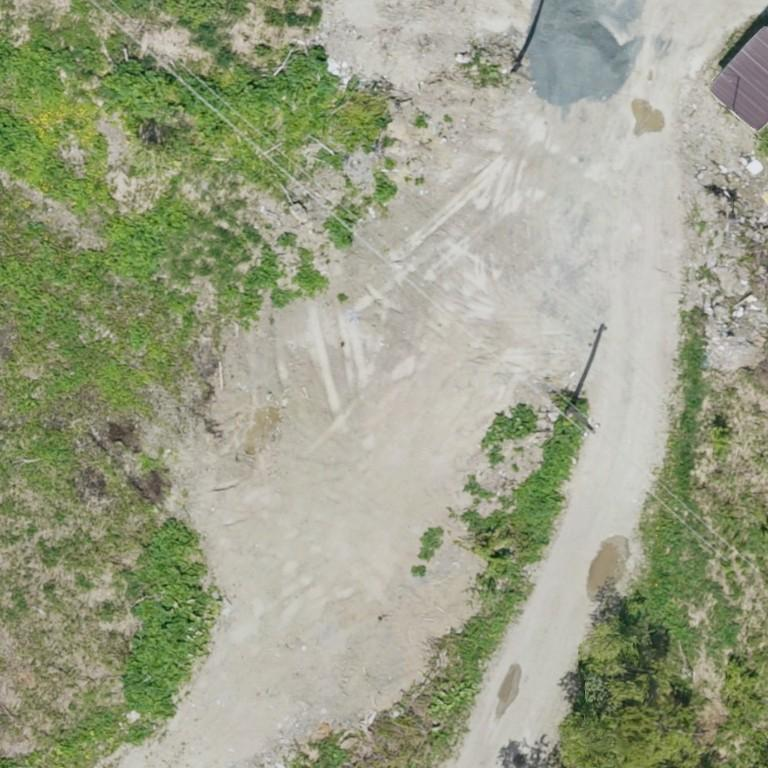hogweed: (123, 518, 220, 720), (465, 416, 582, 547), (0, 108, 109, 208), (75, 194, 184, 278), (209, 46, 335, 110), (0, 42, 100, 98), (99, 60, 191, 115), (481, 403, 537, 466), (239, 247, 277, 312), (325, 217, 350, 247), (292, 268, 324, 290)
